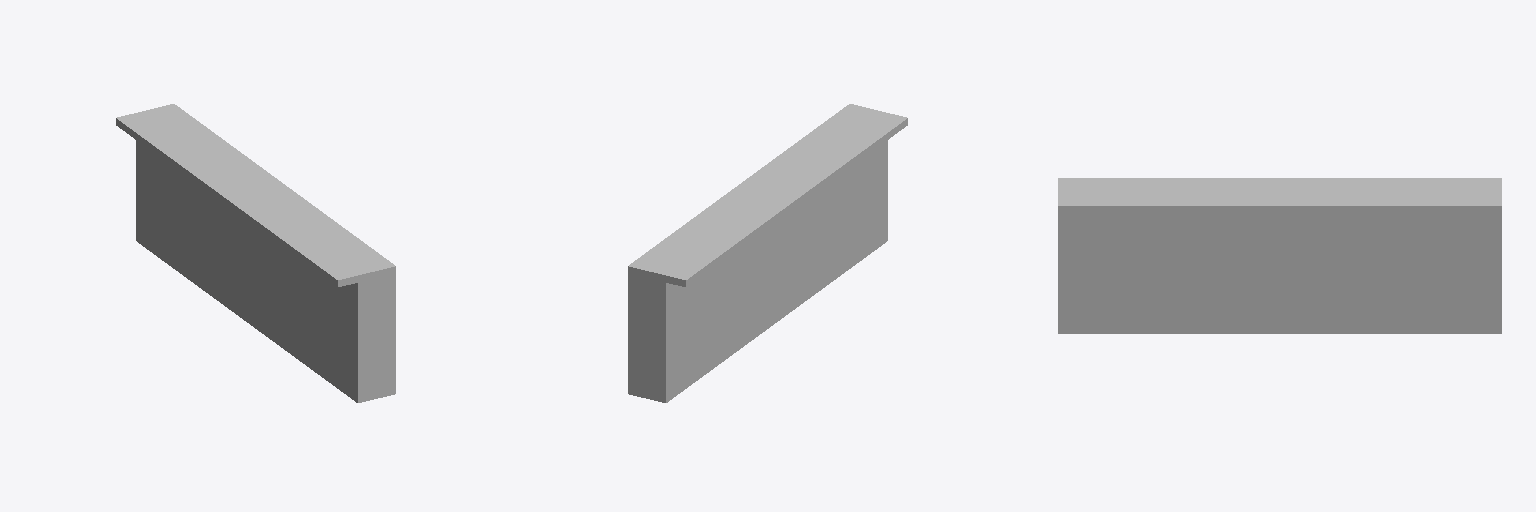
Rendered from table.obj.
3 renders of one model, left to right at view 1: azimuth 30°, elevation 25°; view 2: azimuth 150°, elevation 25°; view 3: azimuth 270°, elevation 25°, orthographic.
Visible parts, largest first — view 1: table_Cube.003; view 2: table_Cube.003; view 3: table_Cube.003.
Part boxes in pixels (bbox=[...]): table_Cube.003: bbox=[116, 104, 395, 402]; table_Cube.003: bbox=[628, 104, 907, 402]; table_Cube.003: bbox=[1058, 178, 1501, 333].
Size of the model in its own units: 0.3044 by 0.6355 by 2.